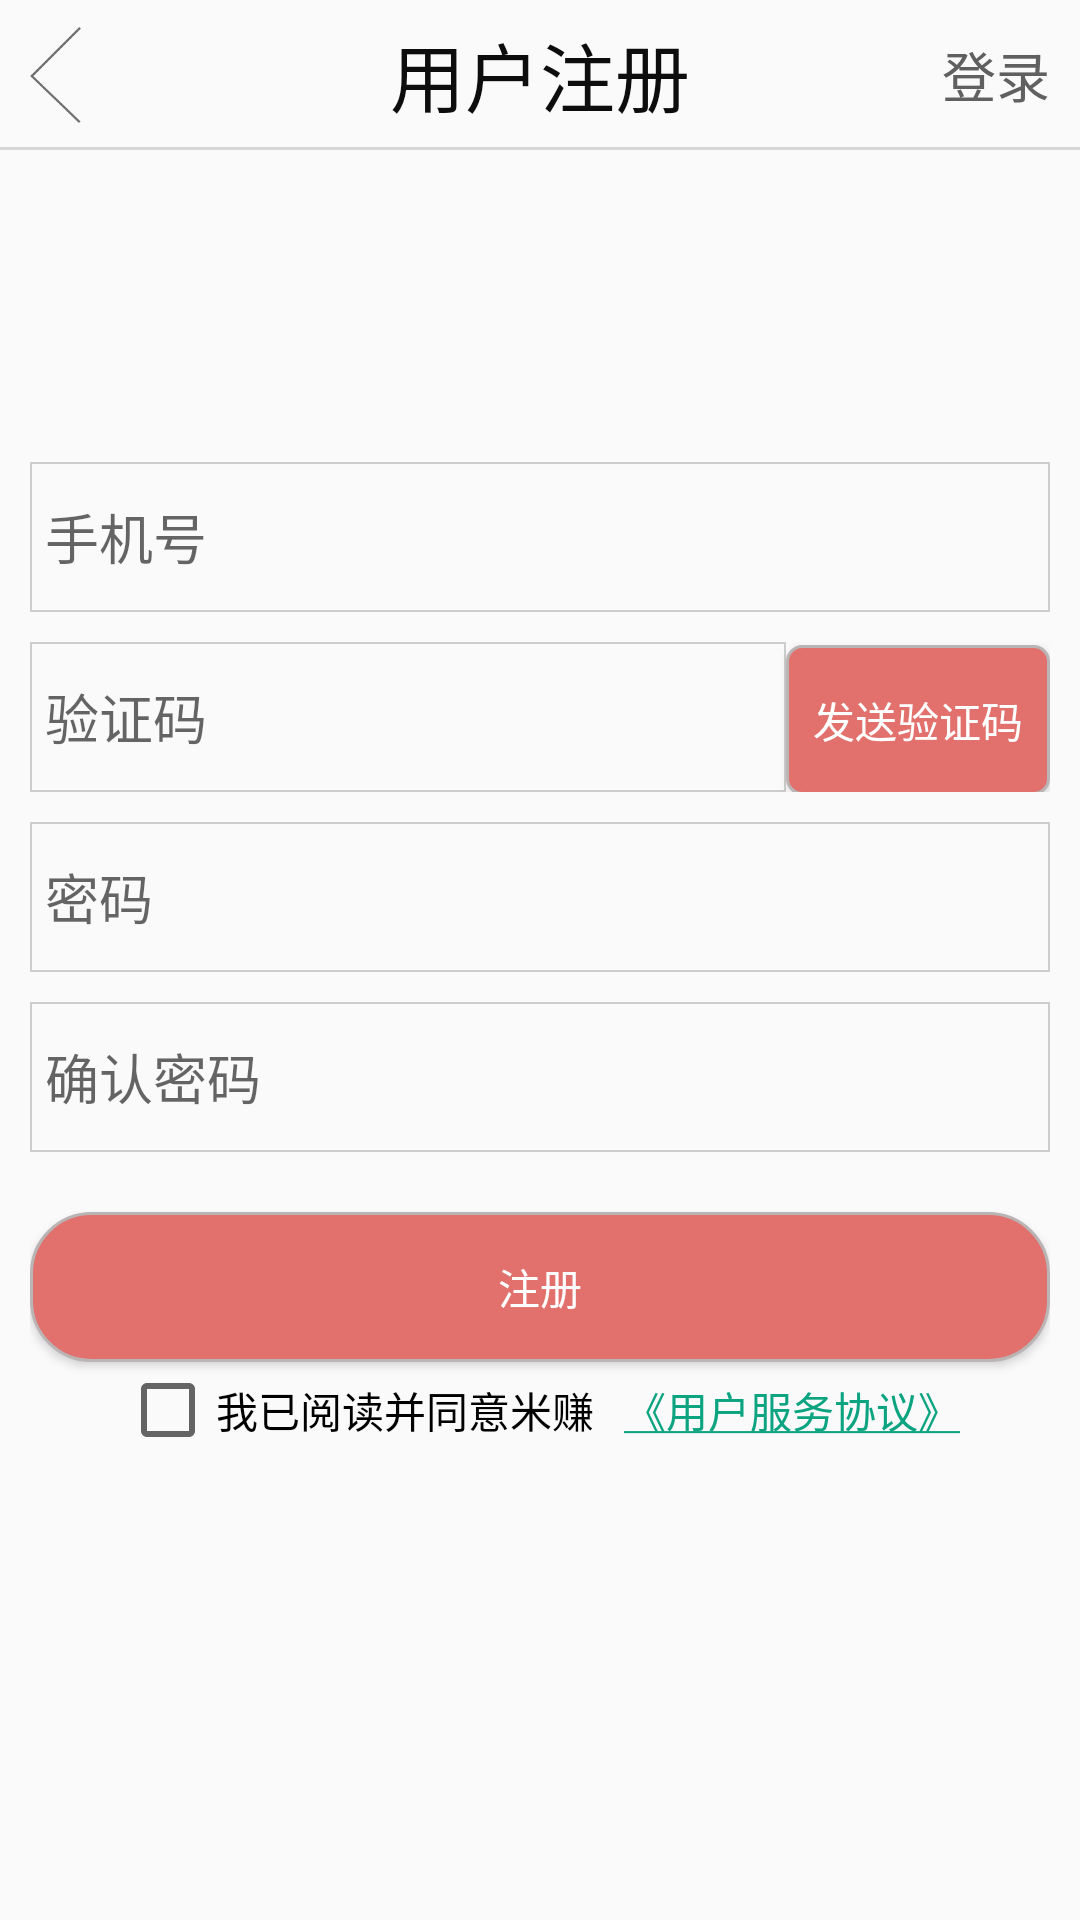

Icons on this 1080×1920 Android screen, each with its box as (x1, y1, x2, y2):
back: (30, 27, 81, 123)
